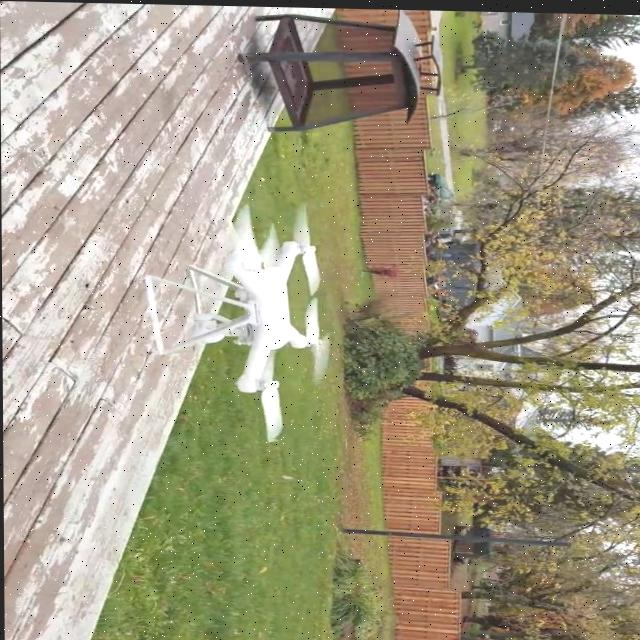drone: (188, 184, 344, 445)
